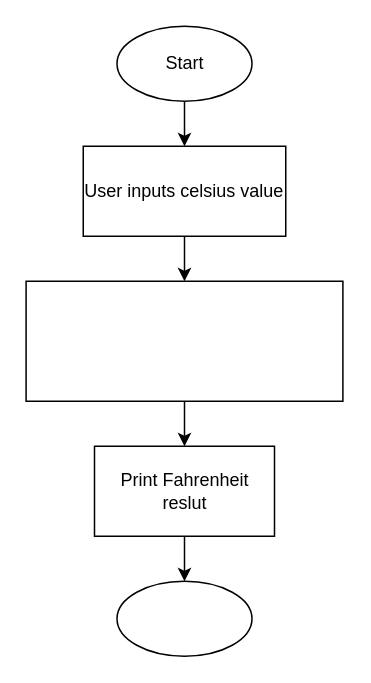
This 371x683 diagram has some shape labels left out. Each missing label, with the box of its shape:
End: (116, 580, 252, 656)
Intal user input to equation to get result Fahrenheit = ((9/5)*user input)+32: (25, 280, 343, 401)
